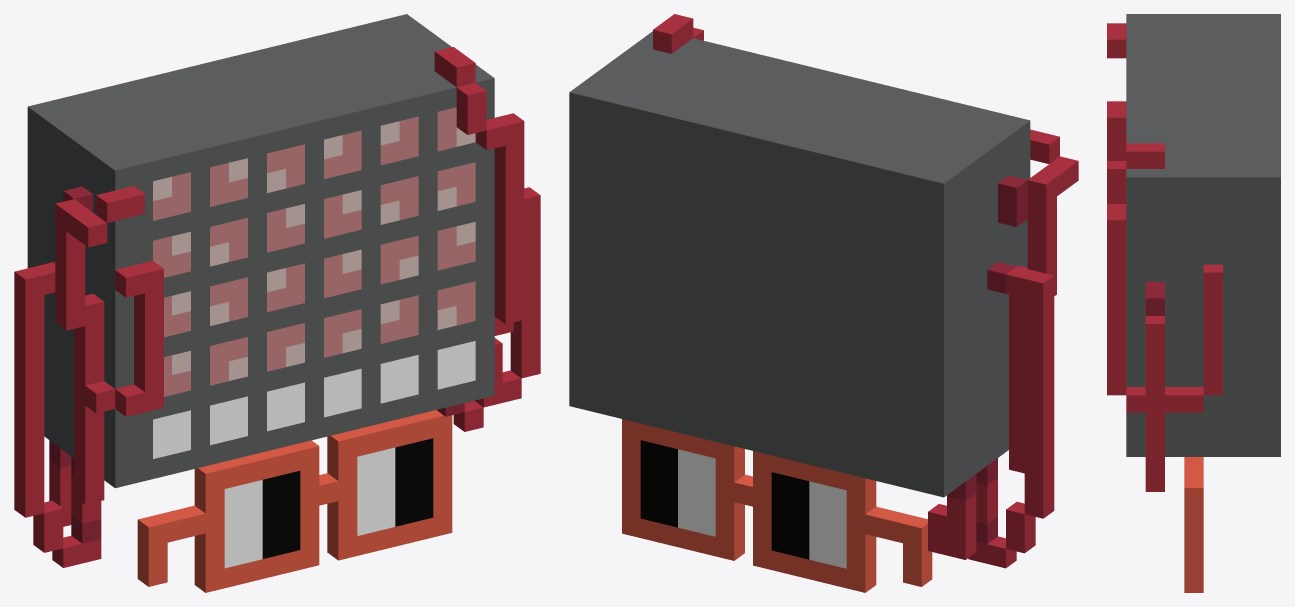
Rendered from turingmachine.glb.
The picture shows the model from 3 angles, left to right: view 1: azimuth 30°, elevation 25°; view 2: azimuth 150°, elevation 25°; view 3: azimuth 270°, elevation 25°; orthographic projection. The views are drawn at different scales.
Visible parts, largest first — view 1: base, cables, glasses, layer-2; view 2: base, cables, glasses, layer-2; view 3: base, cables, glasses.
Boxes of the visible parts, x1,y1,x2,y2 form: base: [27, 14, 494, 488]; cables: [14, 47, 540, 567]; glasses: [137, 410, 452, 592]; layer-2: [224, 438, 433, 568]; base: [569, 31, 1030, 497]; cables: [653, 14, 1078, 568]; glasses: [622, 419, 932, 592]; layer-2: [640, 440, 846, 568]; base: [1126, 14, 1280, 456]; cables: [1107, 23, 1222, 491]; glasses: [1184, 457, 1203, 592].
Bounding box in the file's own units: 26 × 25 × 9.
Materials: 10 (10 with a texture image).
